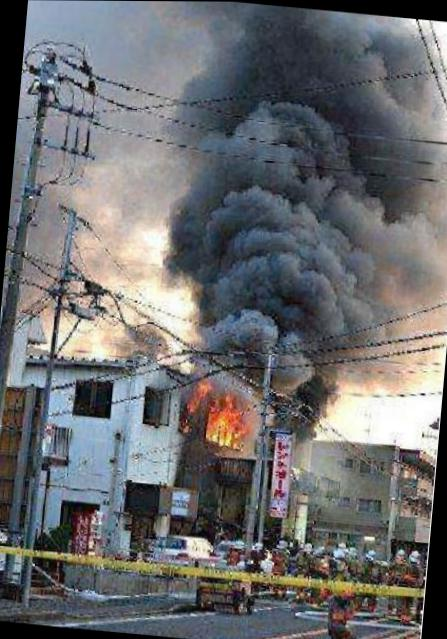fire: (204, 392, 246, 449), (184, 375, 208, 412)
